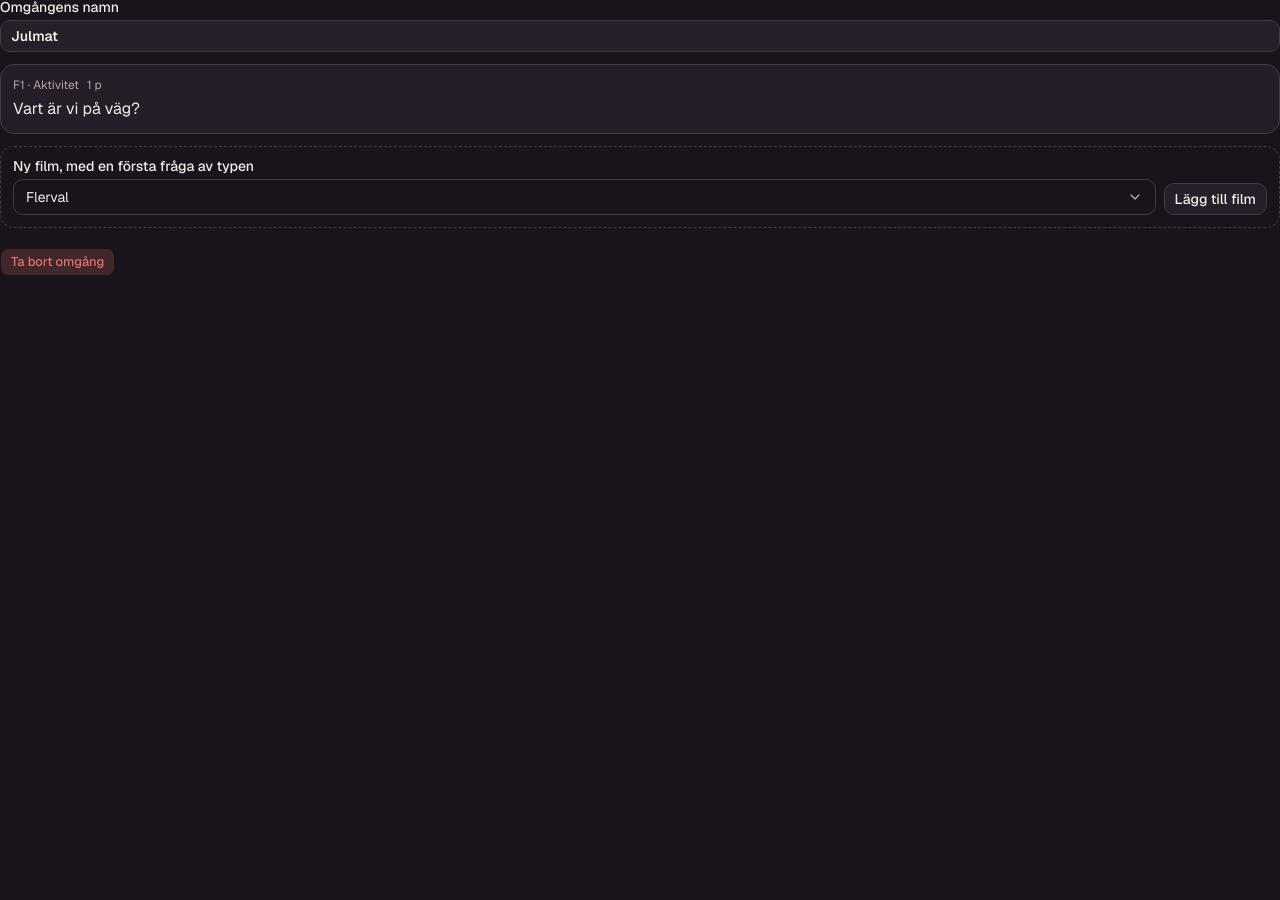
RoundPanel › shows a På spåret round as its trip and films, without the free question list
This screenshot has width=1280, height=900.
Check: the text "Vart är vi på väg?" is shown, box [13, 97, 140, 121]
Check: the button "Lägg till film" is shown, box [1164, 183, 1267, 215]
Click the button "Ta bort omgång".
click(58, 262)  # box [0, 248, 115, 276]
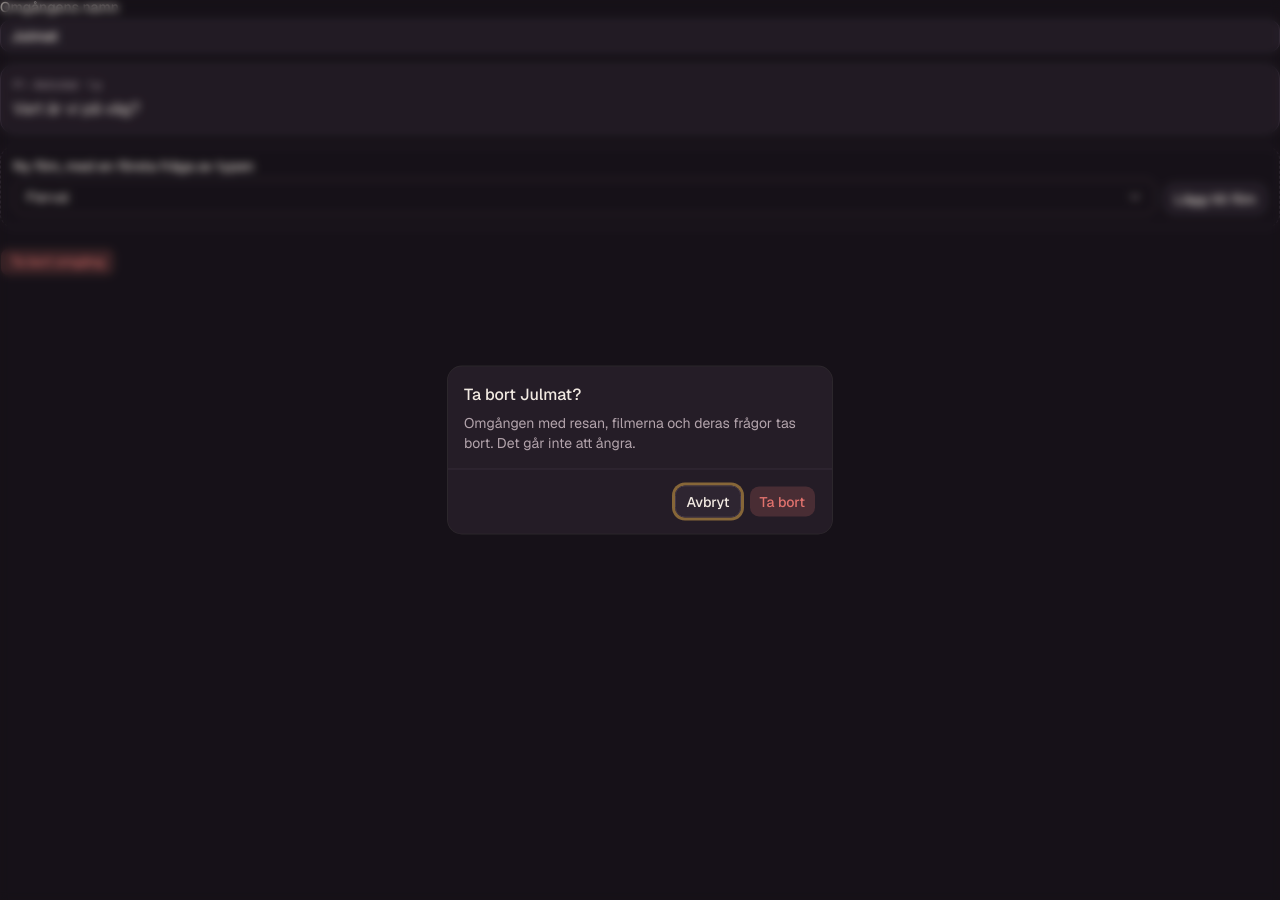
Check: the text "Omgången med resan, filmerna och deras frågor tas bort. Det går inte att ångra." is shown, box [464, 412, 816, 452]
